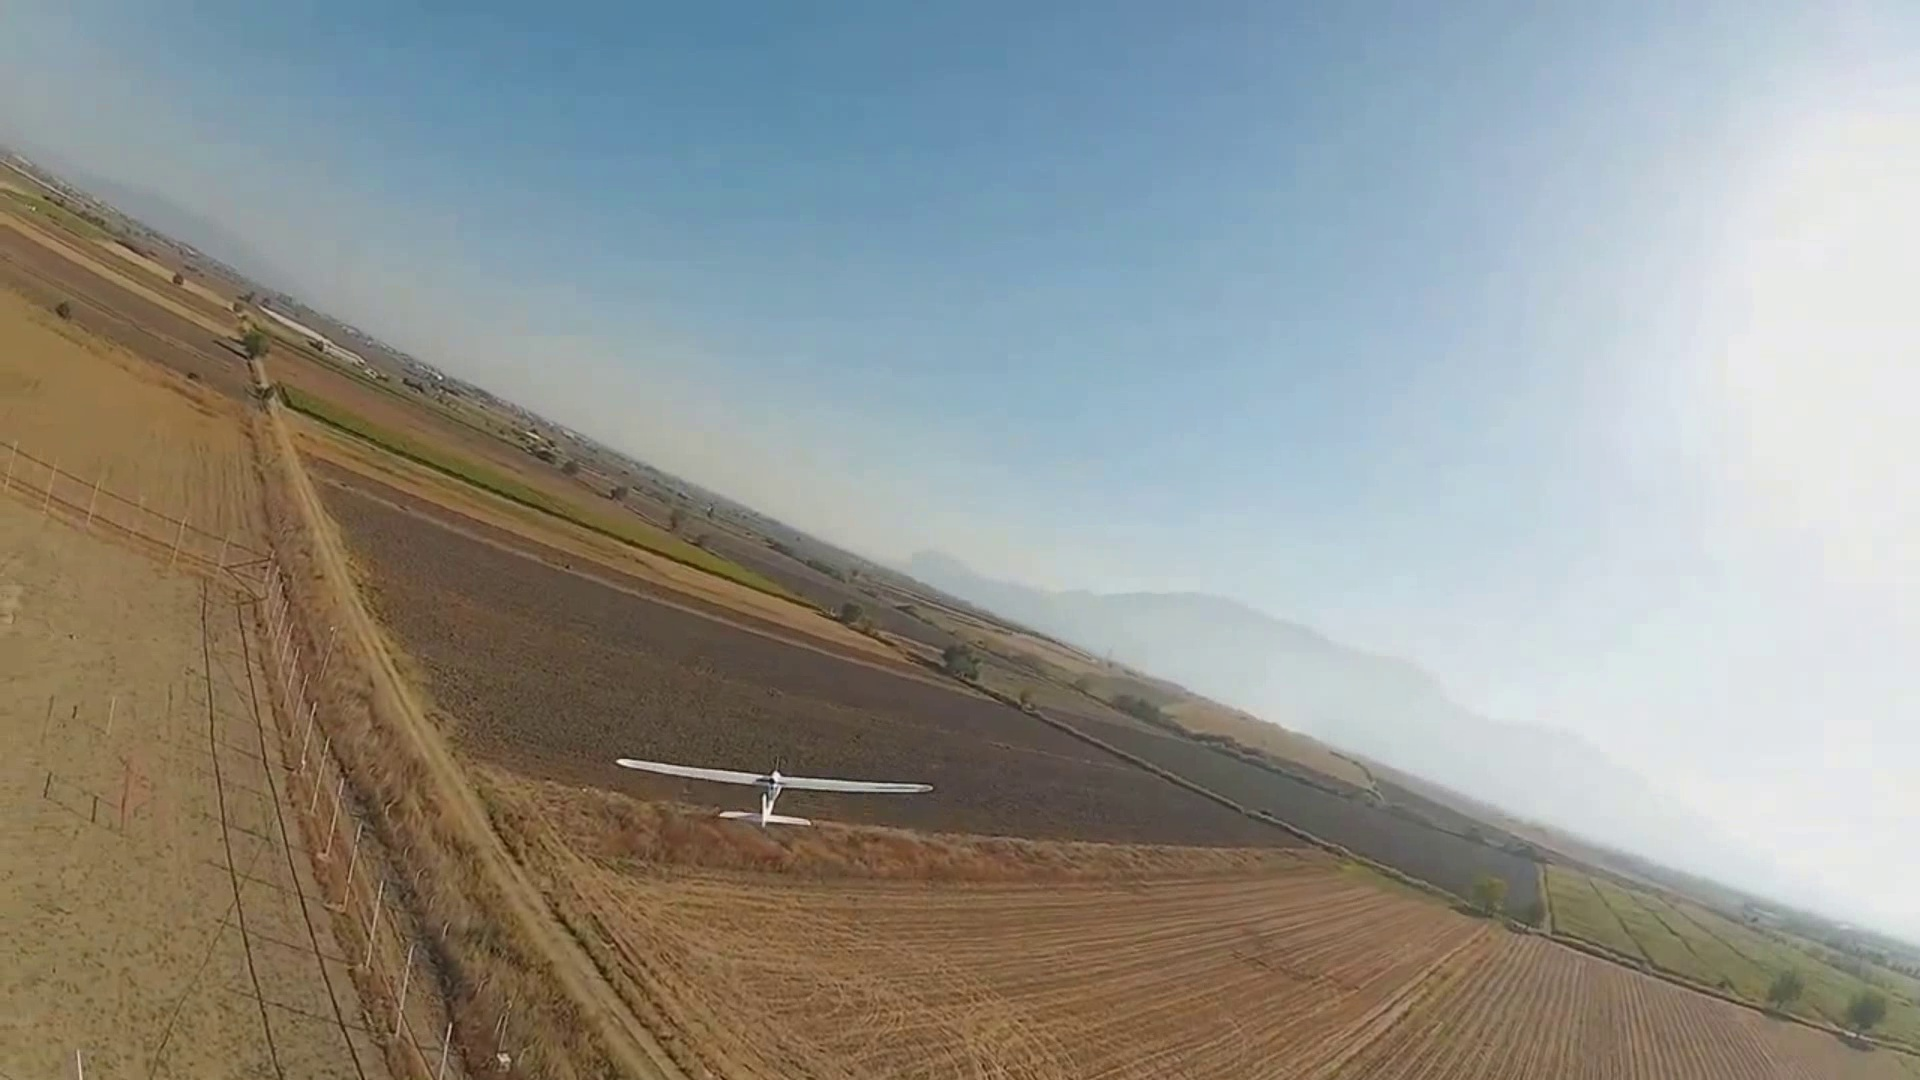airplane: (13, 206, 1917, 1015)
